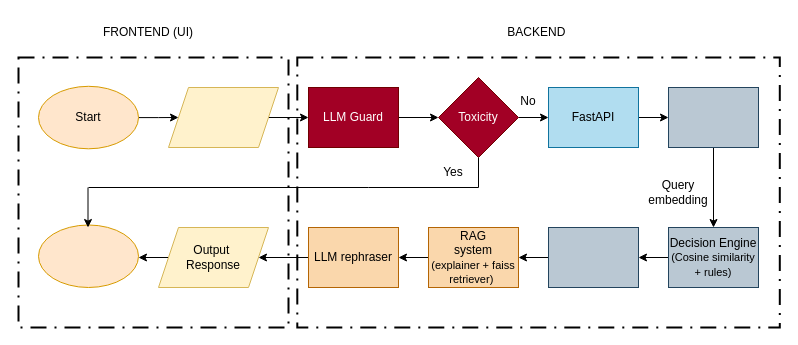
The diagram is 798 pixels wide and 345 high, and some of its shapes have lost their labels. Each missing label, with the centre of its shape:
"End" belongs at (88,256).
"Text Preprocessing" belongs at (713,117).
"Top 3 food (raw JASON)" belongs at (593,257).
"User query" belongs at (223,117).
